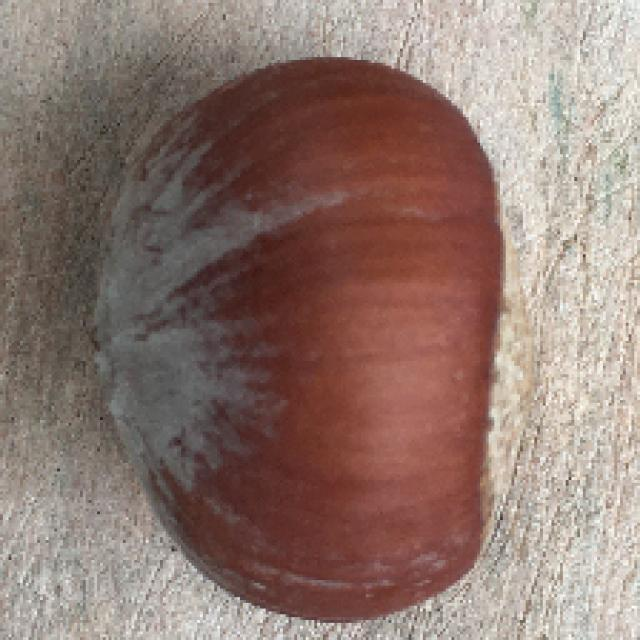QualityHazelnut: (92, 56, 539, 623)
